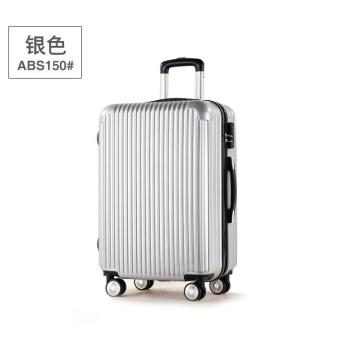suitcase: (97, 53, 238, 302)
